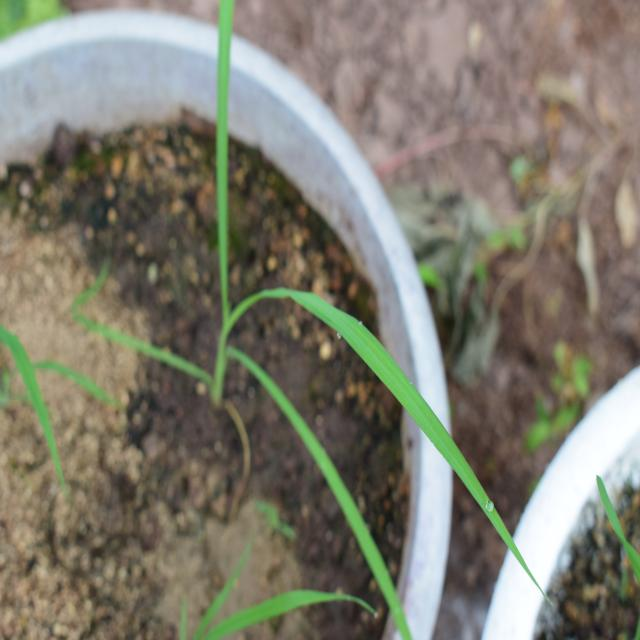barnyard_grass: (179, 0, 532, 613)
